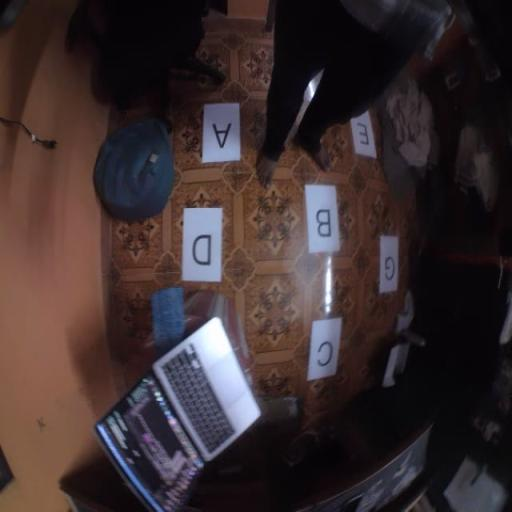A: (202, 102, 240, 164)
B: (304, 183, 341, 255)
C: (306, 317, 342, 382)
D: (181, 207, 223, 283)
E: (350, 110, 376, 159)
G: (378, 234, 399, 294)
